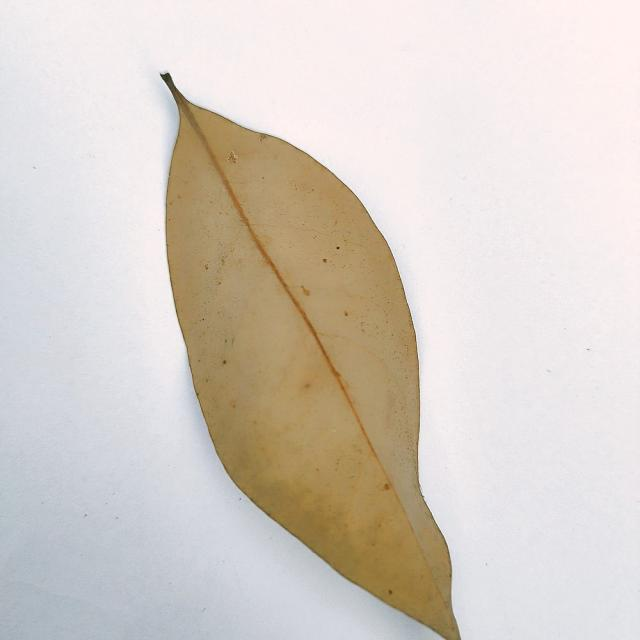Dry_Leaf-Lychee: (162, 76, 462, 639)
